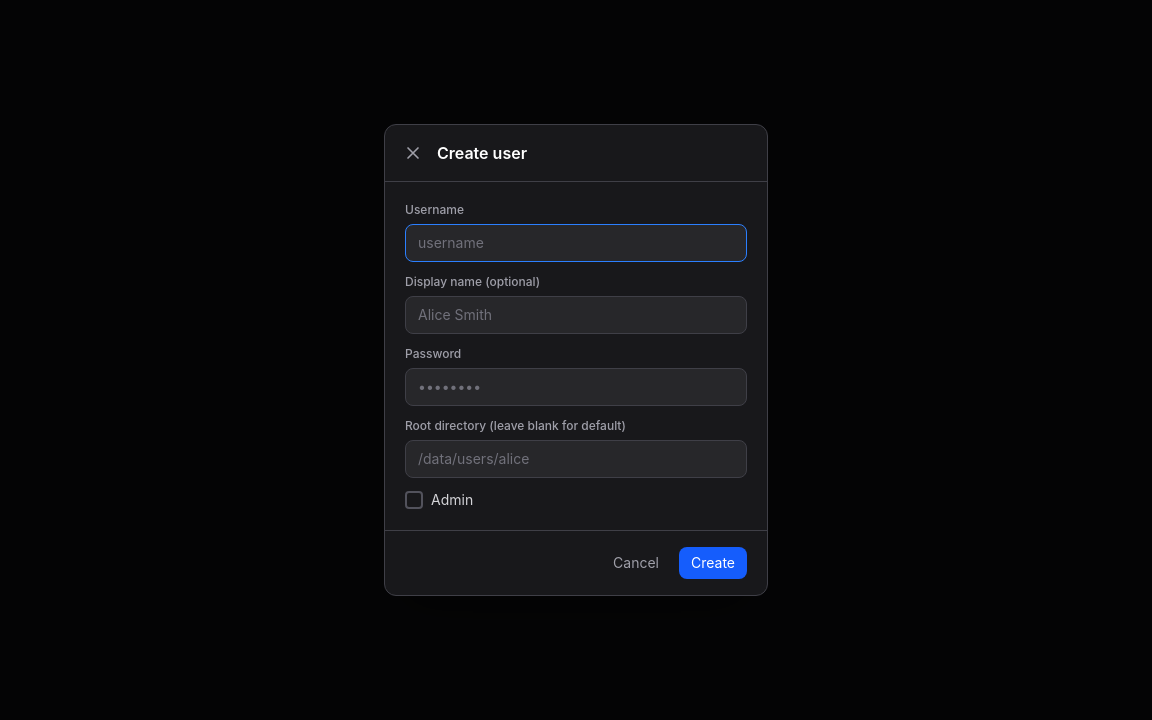
Scenario: UserFormModal › asks before losing what was typed
Type "ann" into the field with placeholder "username" at (576,243), box [405, 224, 747, 262]
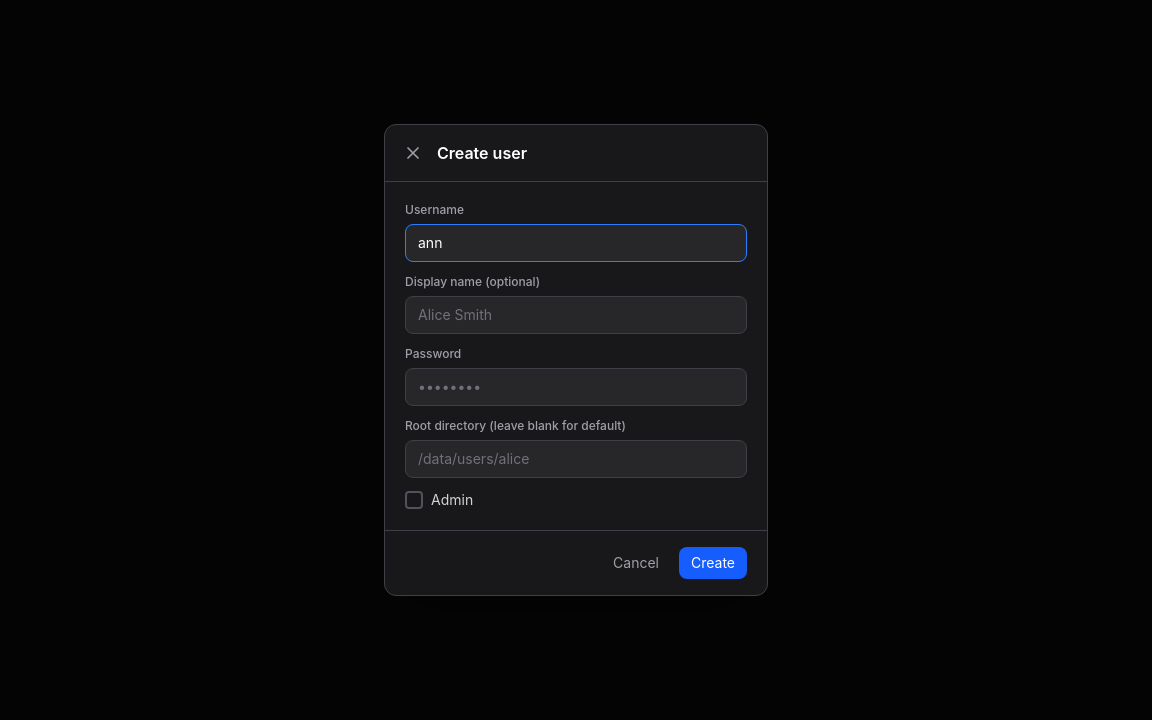
Click the button named "Close" at (413,153), box [397, 137, 429, 169]
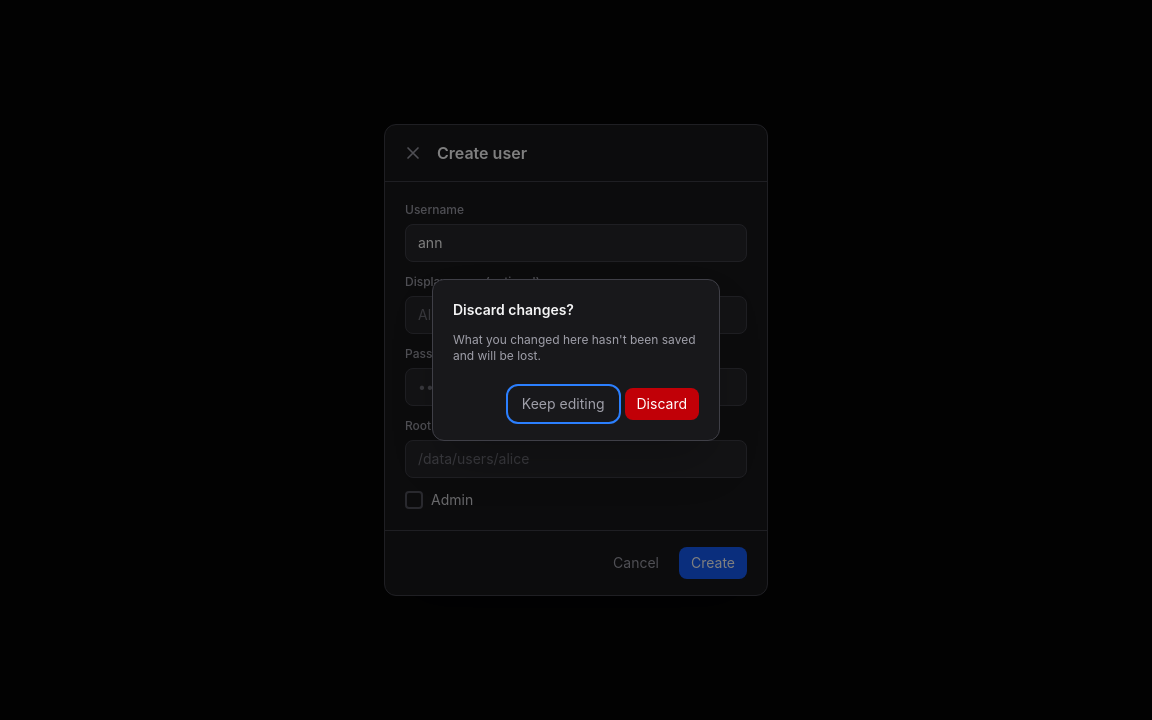
Check: the text "Discard changes?" is shown, box [453, 301, 574, 318]
